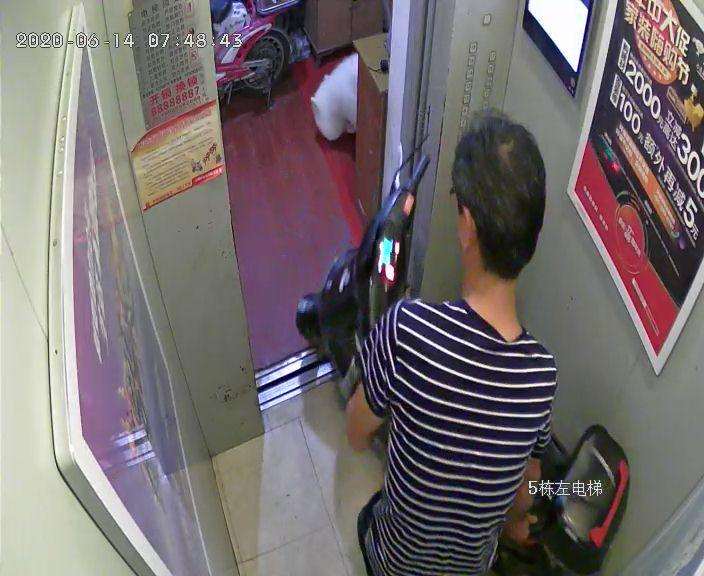Electric-bicycle: (302, 151, 627, 575)
